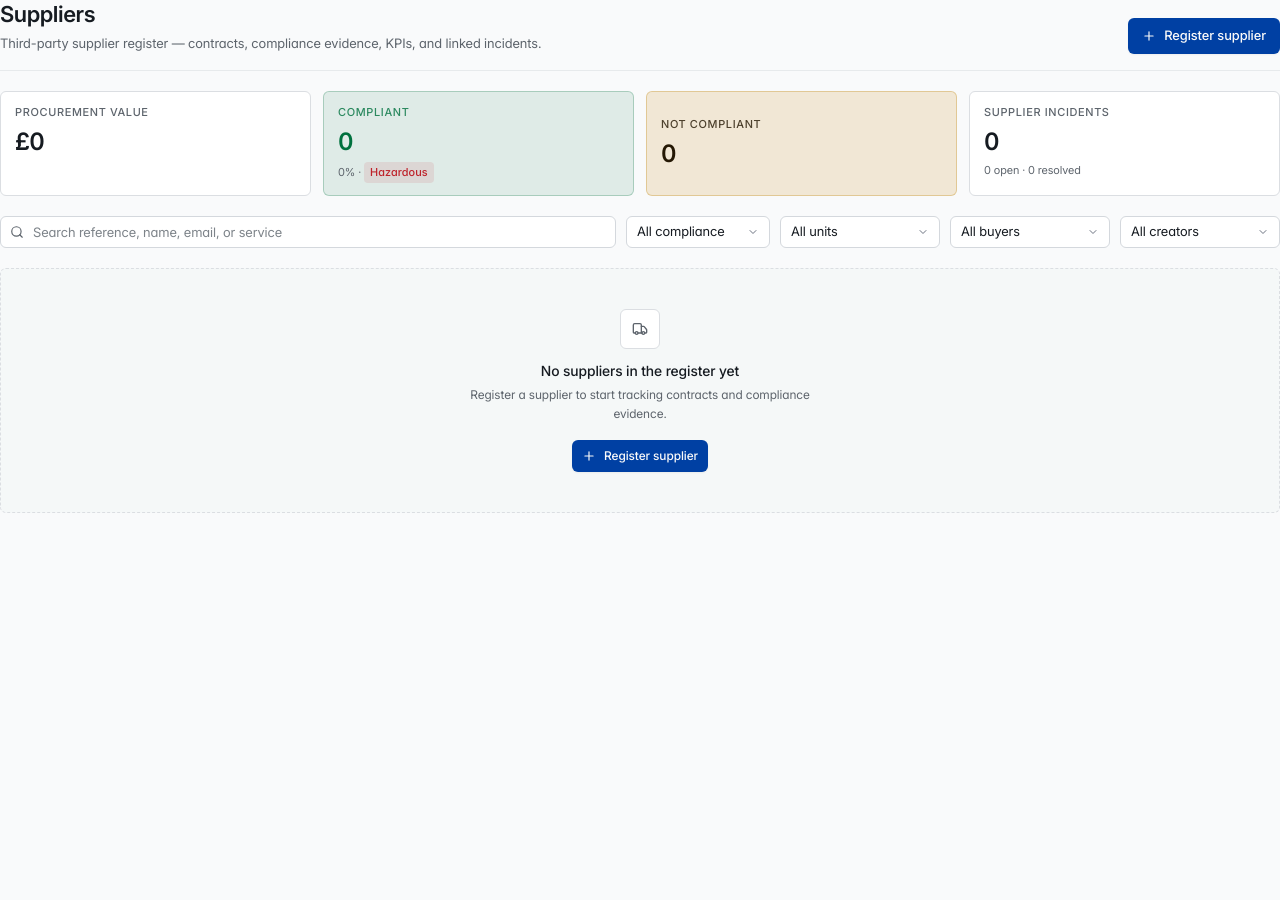
SuppliersListPage › opens create sheet from Register supplier
Expected: the text "No suppliers in the register yet" is shown, [541,362,739,379]
What coordinates should you click on to do the following:
click the 1st button "Register supplier"
I would click on:
 (1204, 36)
Its box is [1128,18,1279,54].
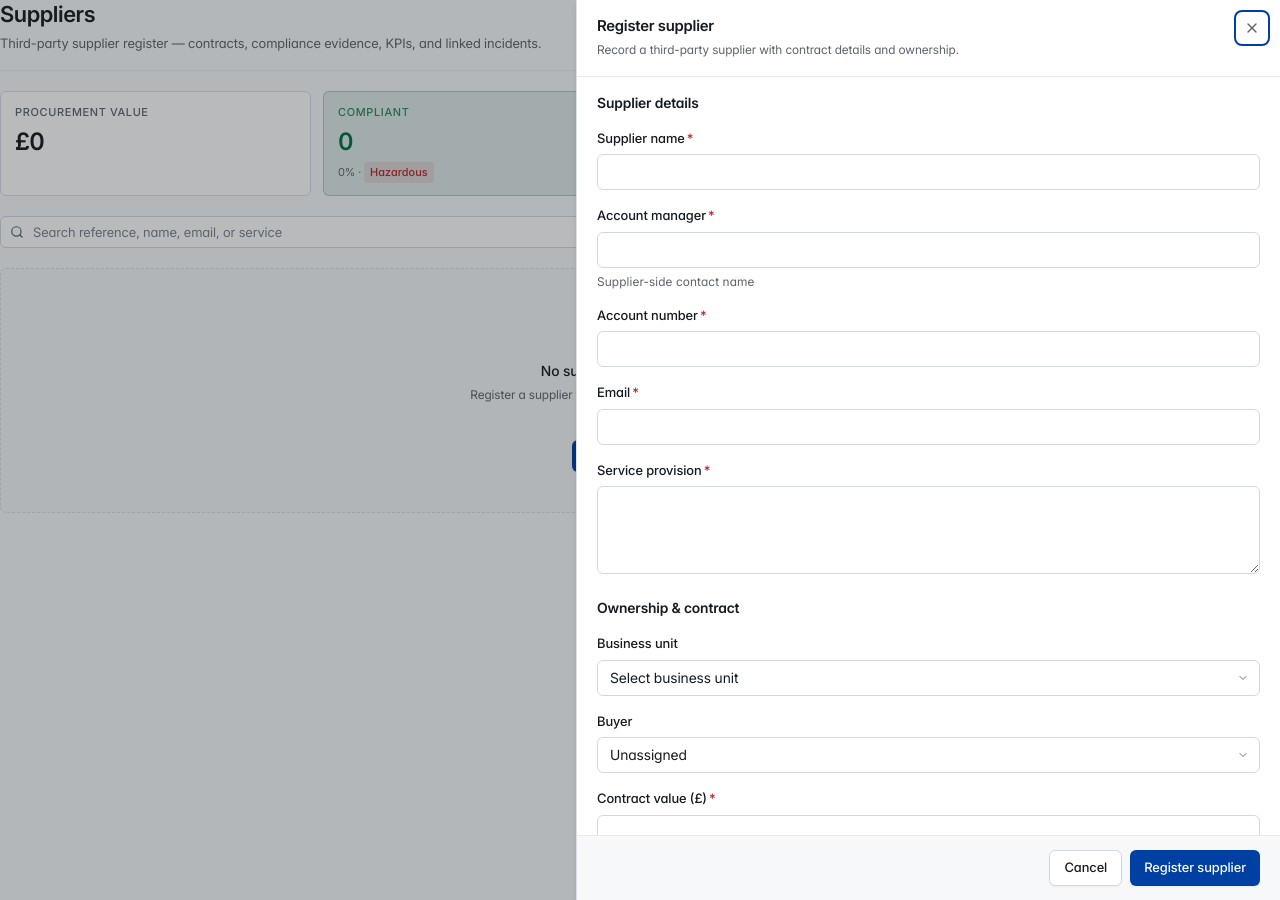
Expected: the heading "Register supplier" is shown, [597,16,714,35]
Expected: the text "Supplier name*" is shown, [597,130,693,146]
